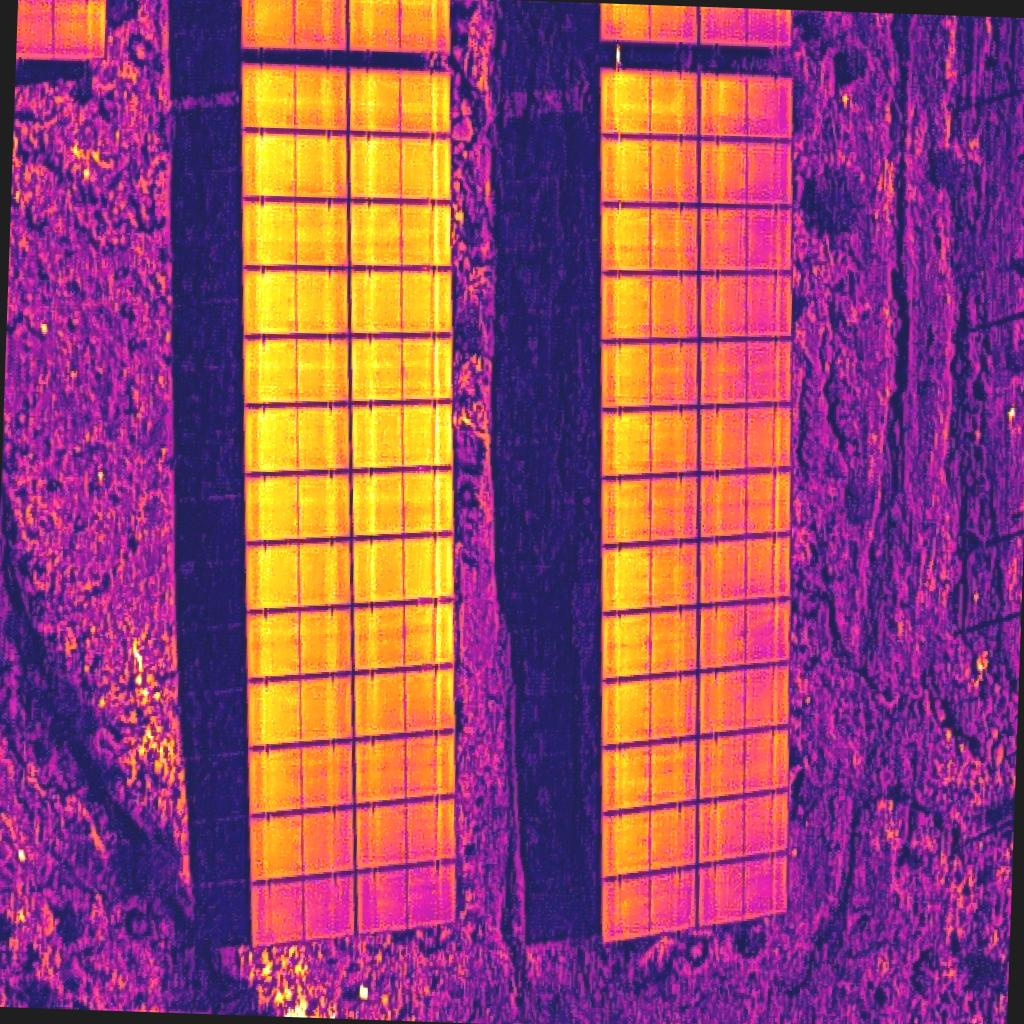panel: (355, 861, 457, 936), (246, 606, 352, 678), (242, 62, 347, 129), (356, 733, 453, 802), (246, 475, 350, 539), (699, 137, 793, 205)
